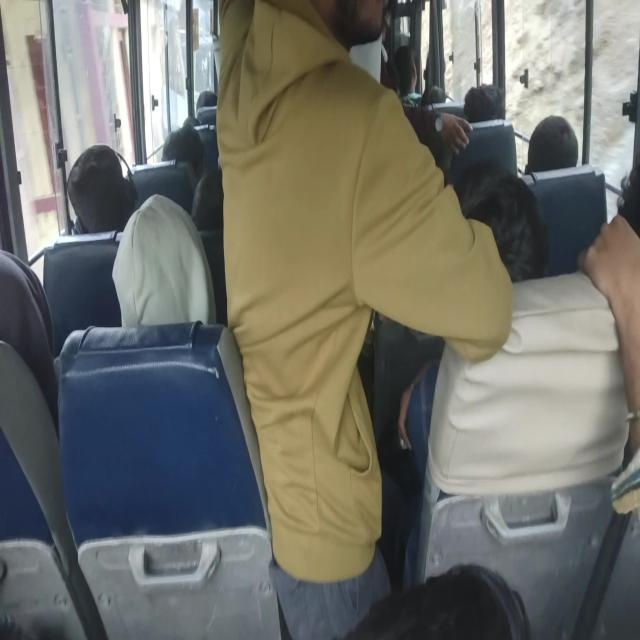person: (220, 0, 382, 423), (119, 218, 224, 349), (0, 276, 56, 458), (459, 176, 543, 288), (385, 564, 499, 640), (63, 154, 157, 228), (177, 166, 254, 247), (526, 117, 583, 185), (352, 0, 386, 83), (465, 81, 517, 122), (168, 124, 202, 170), (463, 157, 512, 184), (392, 45, 417, 89), (194, 92, 231, 114), (0, 626, 56, 640), (423, 86, 448, 106), (187, 114, 206, 132)
